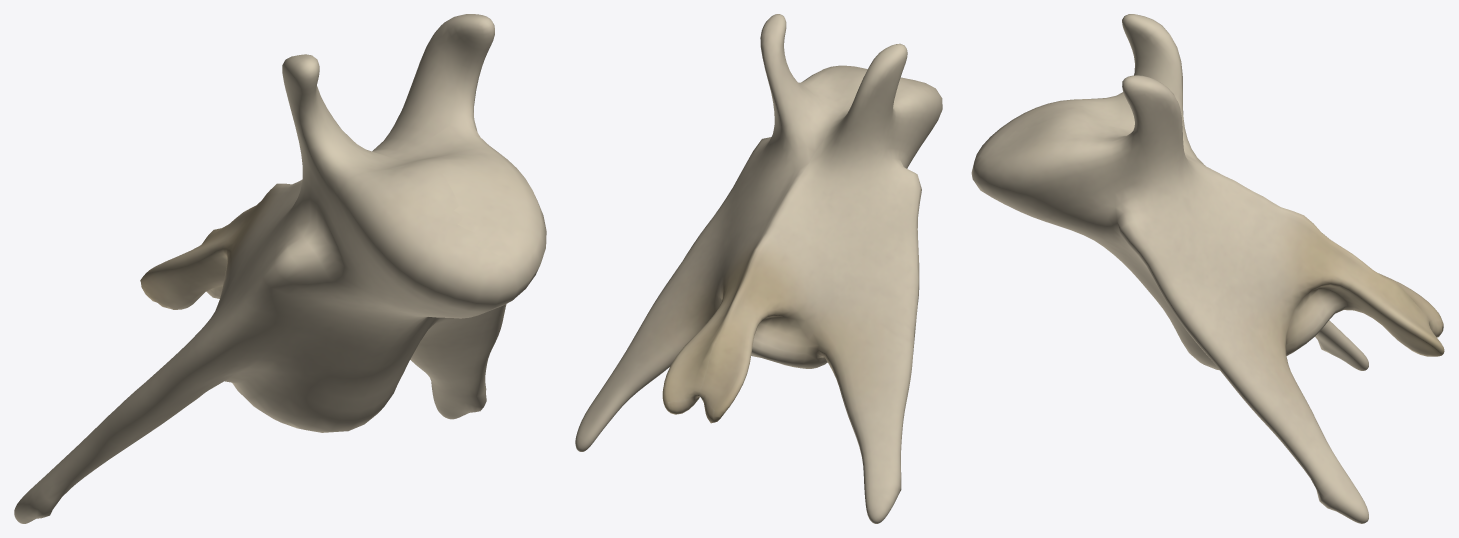
The model's file is vertebrae caudales 04.fbx.
3 renders of one model, left to right at view 1: azimuth 30°, elevation 25°; view 2: azimuth 150°, elevation 25°; view 3: azimuth 270°, elevation 25°, orthographic. The views are drawn at different scales.
Visible parts, largest first — view 1: vertebrae caudales 04; view 2: vertebrae caudales 04; view 3: vertebrae caudales 04.
Part boxes in pixels (x1=…): vertebrae caudales 04: x1=14, y1=14, x2=546, y2=523; vertebrae caudales 04: x1=575, y1=14, x2=942, y2=523; vertebrae caudales 04: x1=971, y1=14, x2=1444, y2=523.
Size of the model in its own units: 4.92 by 5.68 by 6.07.
